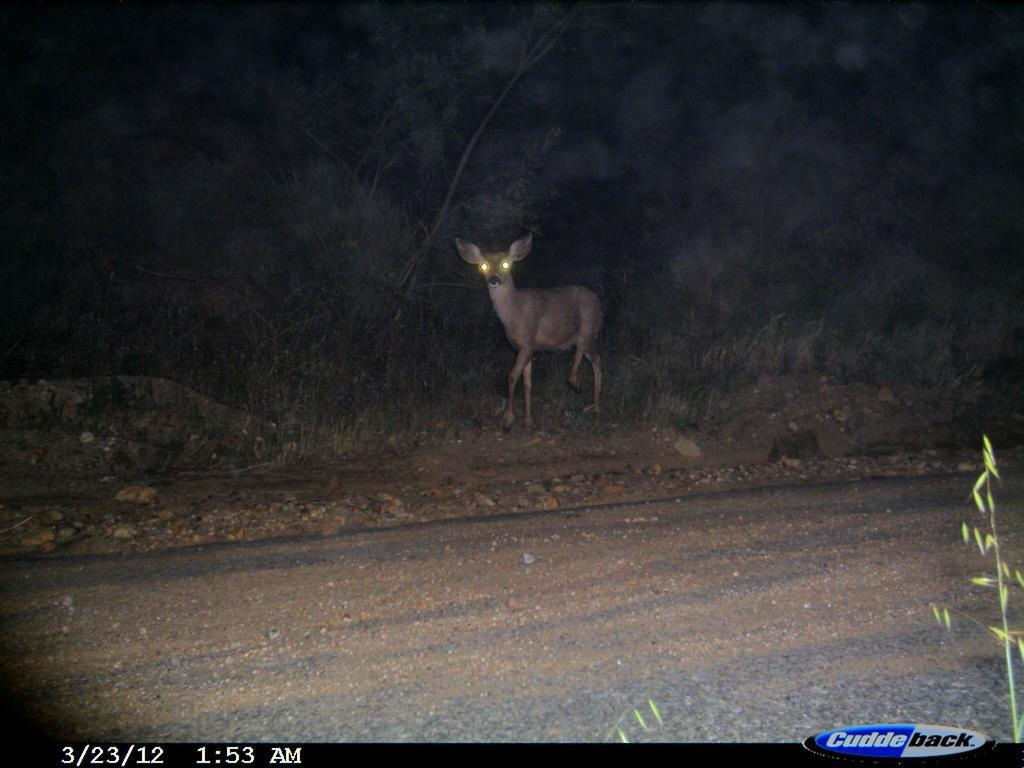deer: (452, 226, 623, 438)
